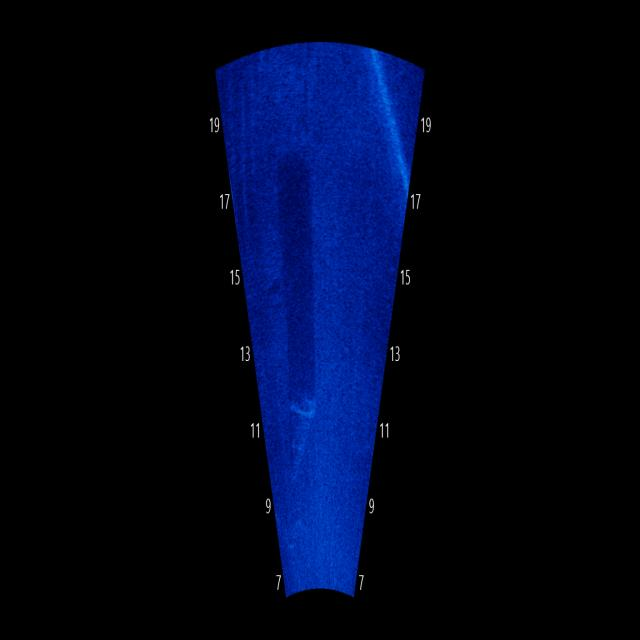triangle: (284, 385, 325, 481)
